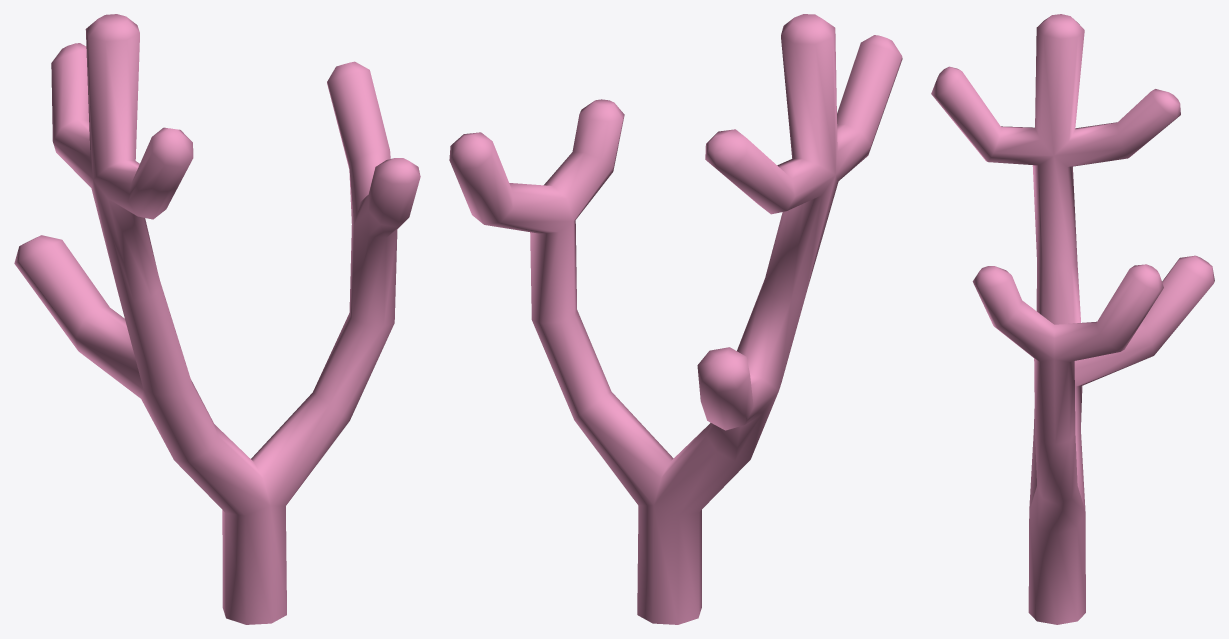
The model's file is Sea_plant_1_5.002.fbx.
3 renders of one model, left to right at view 1: azimuth 30°, elevation 25°; view 2: azimuth 150°, elevation 25°; view 3: azimuth 270°, elevation 25°, orthographic. The views are drawn at different scales.
Parts seen in each view (by area): view 1: Sea_plant_1_5.002; view 2: Sea_plant_1_5.002; view 3: Sea_plant_1_5.002.
Part boxes in pixels (x1,y1,x2,y2): Sea_plant_1_5.002: (14,14,420,624); Sea_plant_1_5.002: (449,14,902,624); Sea_plant_1_5.002: (931,14,1214,624).
Bounding box in the file's own units: 0.7313 × 1.31 × 0.6294.
